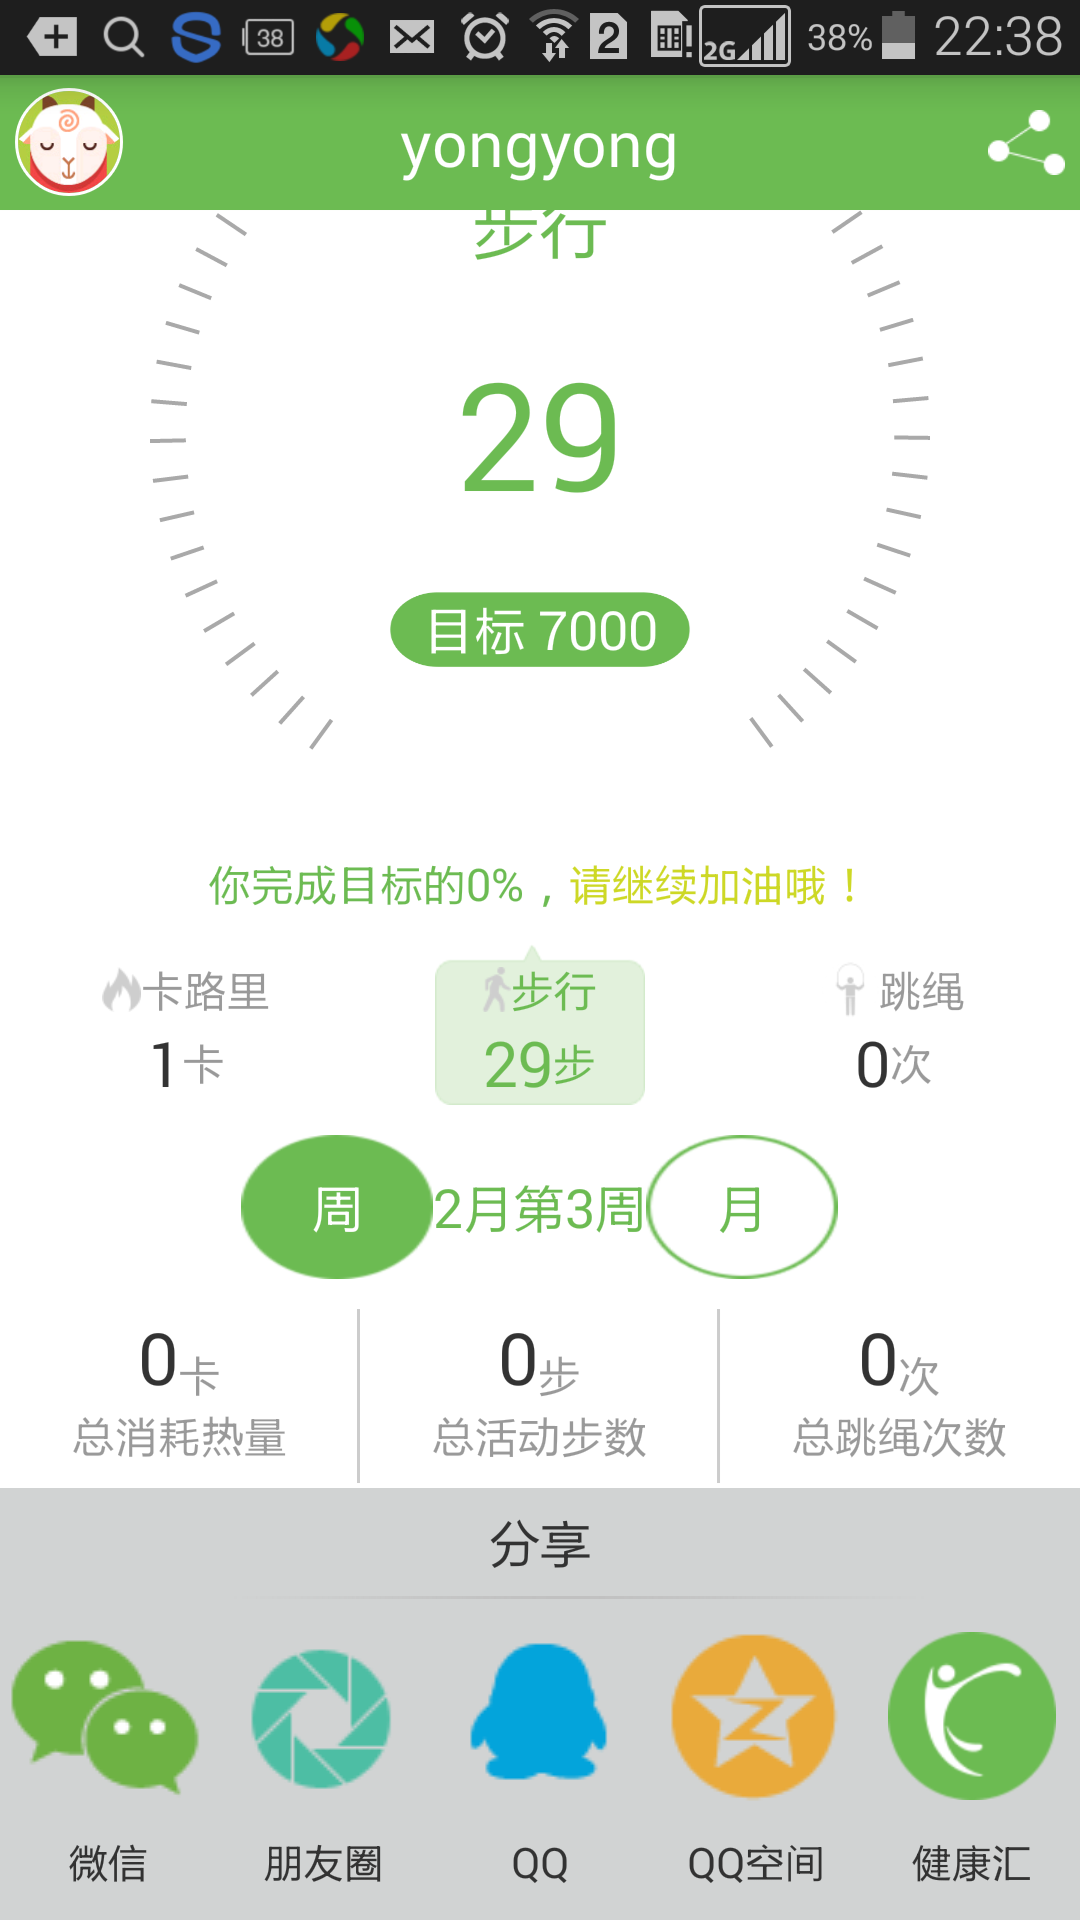imgview: (872, 1623, 1071, 1808), (661, 1627, 853, 1807), (7, 84, 131, 196)
